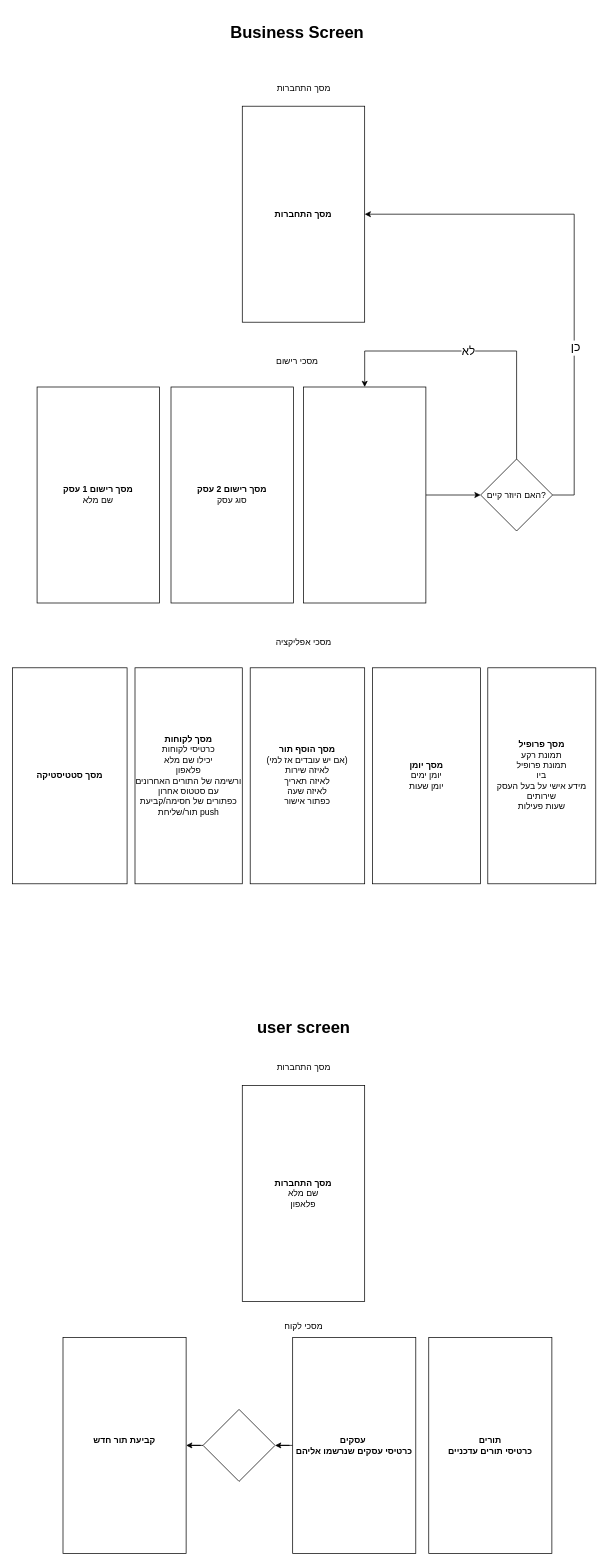
Some shapes in this 608 by 1566 pixel diagram are drawn without their labels. Here are the shapes that lost their labels. From the top down, the box of each, then its label:
(303, 386, 426, 603): מסך רישום 3 עסק מספר פלאפון אימייל כתובת
(202, 1409, 275, 1481): לחץ לקביעת תור
